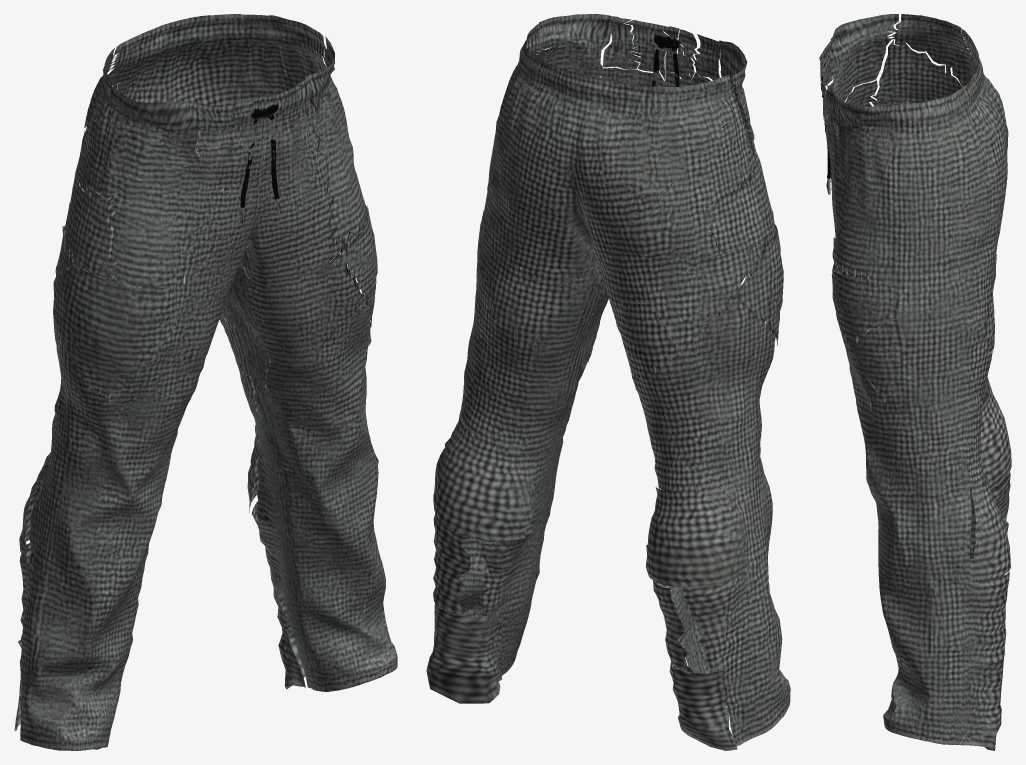
The model's file is dante.glb.
The picture shows the model from 3 angles, left to right: view 1: azimuth 30°, elevation 25°; view 2: azimuth 150°, elevation 25°; view 3: azimuth 270°, elevation 25°; orthographic projection. The views are drawn at different scales.
Parts seen in each view (by area): view 1: geometry_0; view 2: geometry_0; view 3: geometry_0.
Part boxes in pixels (left/top/right/bottom): geometry_0: left=14, top=14, right=397, bottom=750; geometry_0: left=426, top=14, right=790, bottom=750; geometry_0: left=819, top=14, right=1011, bottom=750.
Bounding box in the file's own units: 0.5378 × 0.9877 × 0.2724.
1 material, 1 textured.
